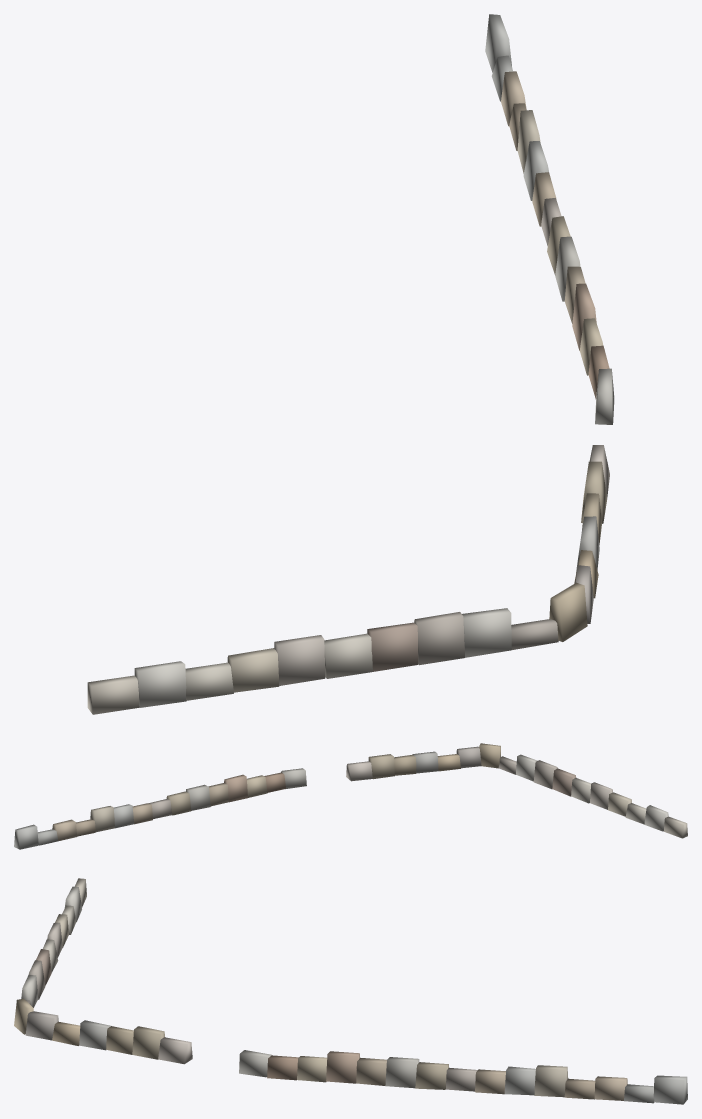
File: farm_3_20_far.glb
3 views of the same model, one above another, from view 1: azimuth 30°, elevation 25°; view 2: azimuth 150°, elevation 25°; view 3: azimuth 270°, elevation 25° (orthographic). The views are drawn at different scales.
Visible parts, largest first — view 1: geometry_0; view 2: geometry_0; view 3: geometry_0.
Boxes of the visible parts, bbox=[...] form: geometry_0: bbox=[87, 14, 614, 714]; geometry_0: bbox=[14, 743, 687, 849]; geometry_0: bbox=[14, 878, 687, 1104].
Size of the model in its own units: 32.93 by 5.15 by 33.74.
